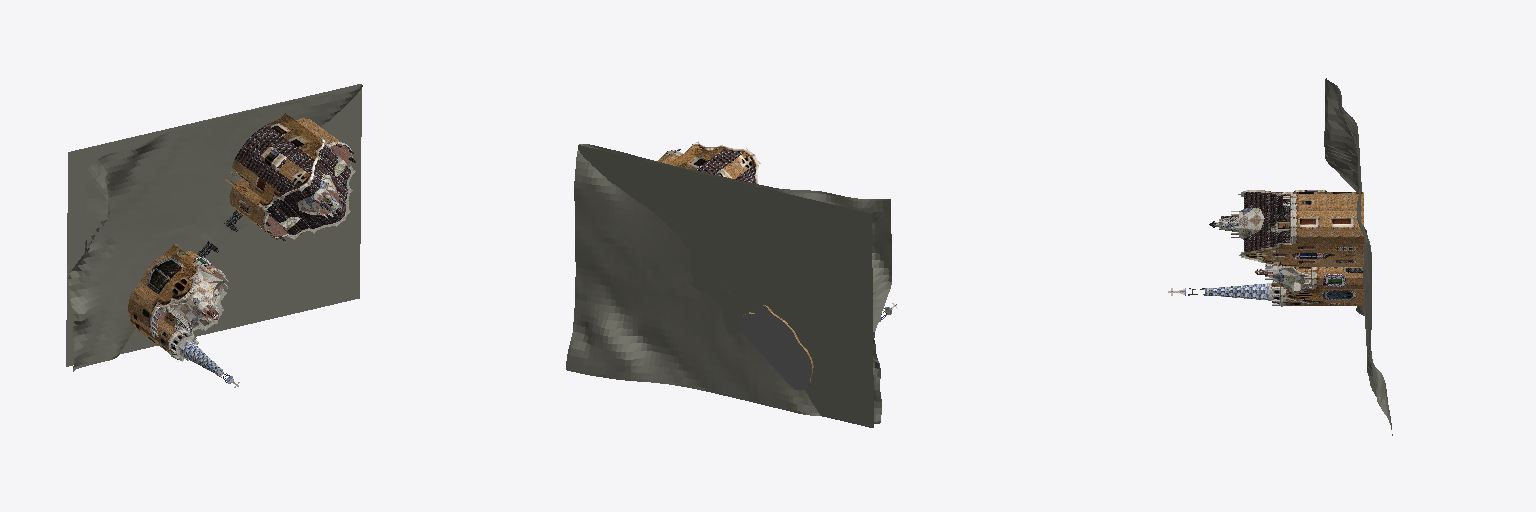
3 views of the same model, side by side, from view 1: azimuth 30°, elevation 25°; view 2: azimuth 150°, elevation 25°; view 3: azimuth 270°, elevation 25° (orthographic).
Visible parts, largest first — view 1: Google Earth Terrain, Group, Google Earth Snapshot; view 2: Google Earth Snapshot, Google Earth Terrain, Group; view 3: Group, Google Earth Terrain.
Boxes of the visible parts, x1=… form: Google Earth Terrain: x1=68, y1=85, x2=362, y2=371; Group: x1=128, y1=113, x2=355, y2=383; Google Earth Snapshot: x1=66, y1=84, x2=361, y2=366; Google Earth Snapshot: x1=578, y1=145, x2=873, y2=427; Google Earth Terrain: x1=566, y1=144, x2=891, y2=423; Group: x1=658, y1=141, x2=891, y2=390; Group: x1=1185, y1=190, x2=1363, y2=306; Google Earth Terrain: x1=1324, y1=78, x2=1392, y2=435.
Bounding box in the file's own units: 1799 × 1263 × 1185.
50 materials, 46 textured.